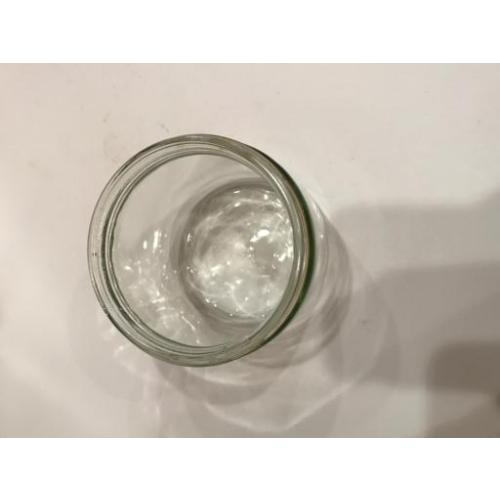glass: (87, 134, 316, 368)
